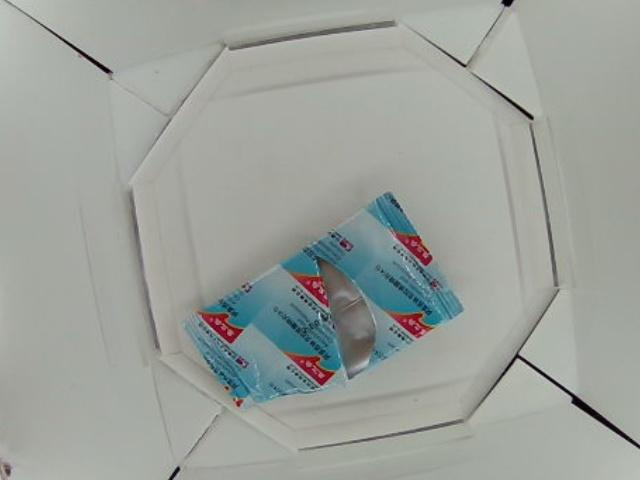Medicine: (191, 190, 466, 408)
